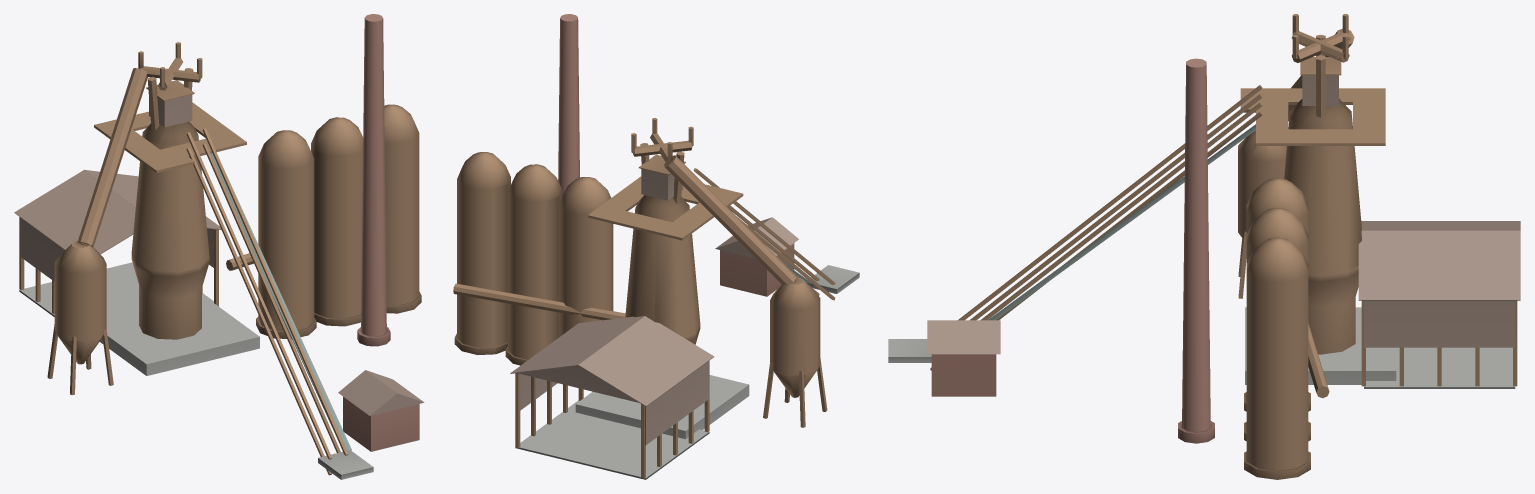
File: blast_furnace_lod2.glb
3 renders of one model, left to right at view 1: azimuth 30°, elevation 25°; view 2: azimuth 150°, elevation 25°; view 3: azimuth 270°, elevation 25°, orthographic. The views are drawn at different scales.
Parts seen in each view (by area): view 1: static; view 2: static; view 3: static.
Boxes of the visible parts, x1,y1,x2,y2 form: static: (14,14,424,479); static: (453,14,859,479); static: (888,14,1520,479).
Bounding box in the file's own units: 45.05 × 39.62 × 58.5.
